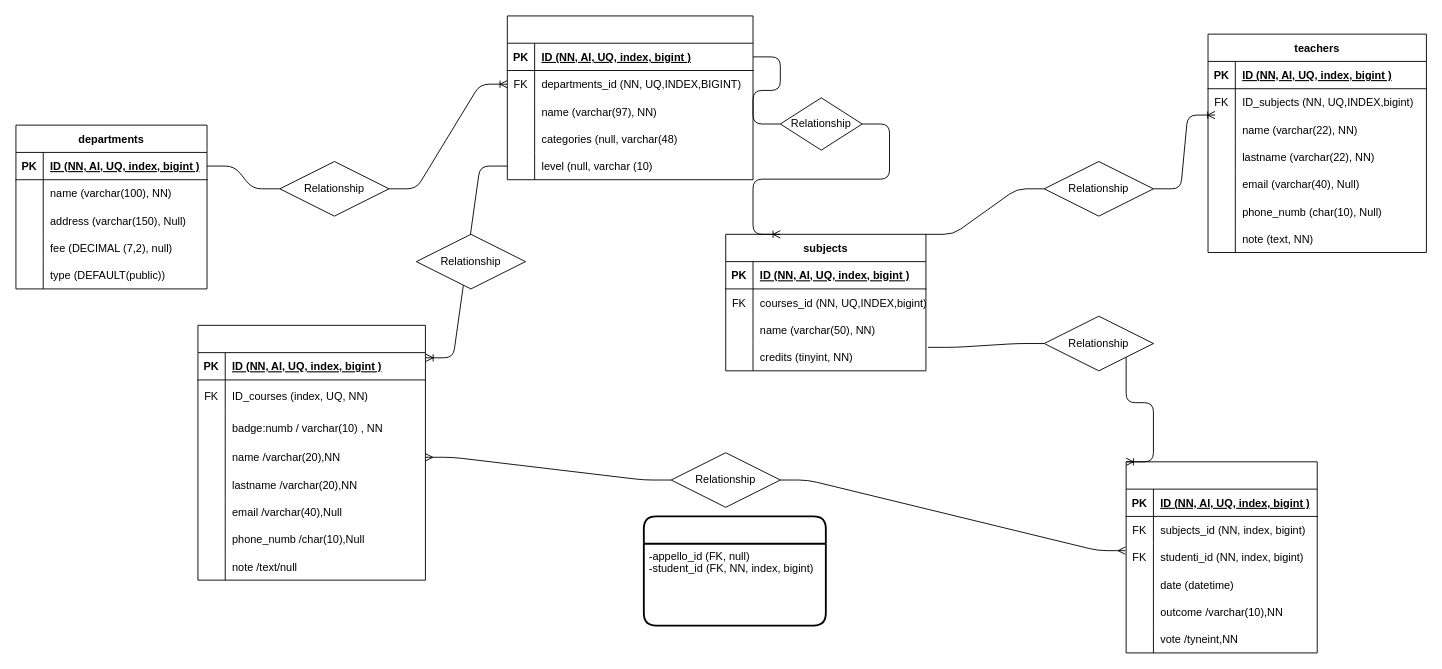
Some shapes in this 1442 by 669 pixel diagram are drawn without their labels. The box of each missing label's shape, as (x1, y1, x2, y2) in pixels:
courses: (506, 15, 753, 180)
exams: (1125, 461, 1317, 653)
students: (197, 324, 425, 580)
votes: (642, 515, 826, 626)
